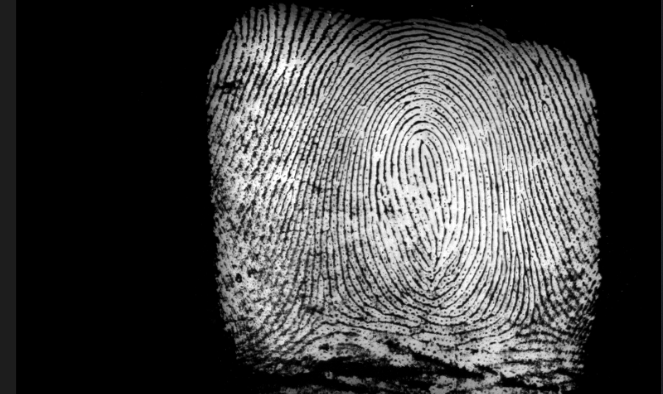nucelo: (405, 127, 449, 191)
verticilo: (521, 298, 553, 336), (314, 289, 343, 317)
